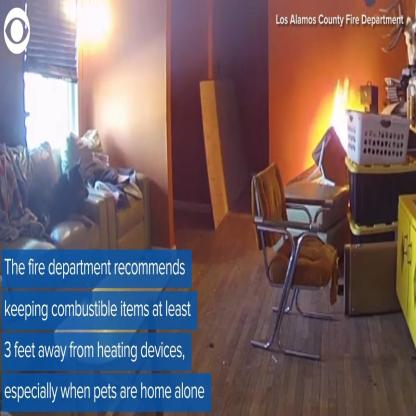fire: (323, 72, 357, 157)
